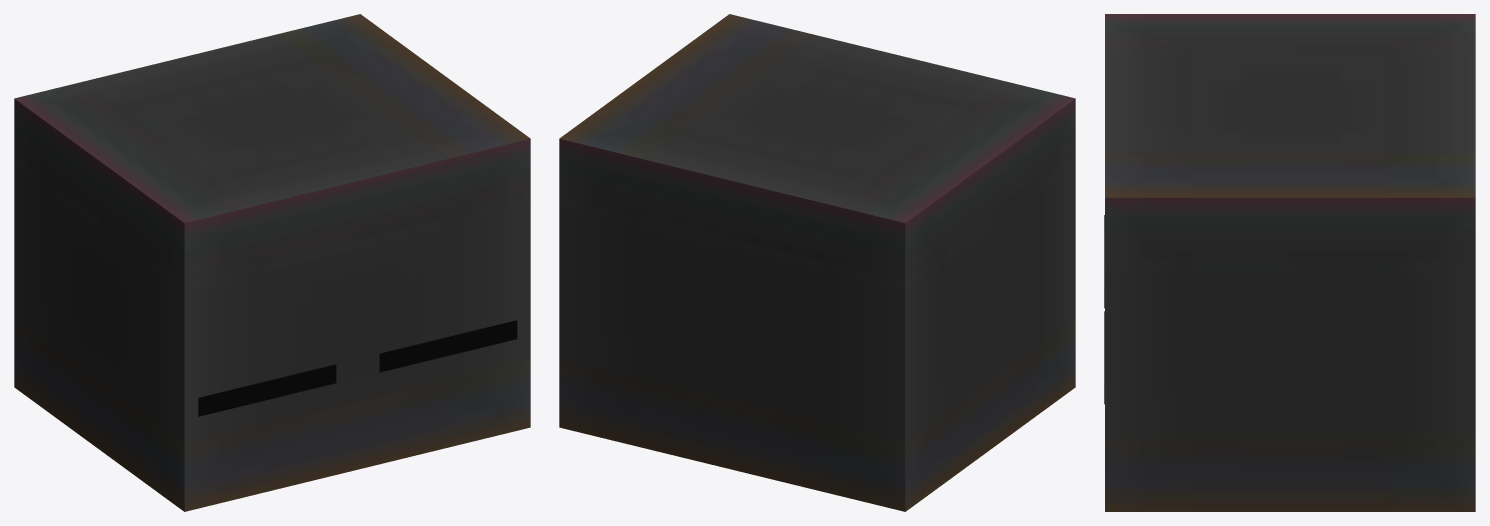
The model's file is knight.fbx.
3 renders of one model, left to right at view 1: azimuth 30°, elevation 25°; view 2: azimuth 150°, elevation 25°; view 3: azimuth 270°, elevation 25°, orthographic. The views are drawn at different scales.
Visible parts, largest first — view 1: Knight, Eyes; view 2: Knight; view 3: Knight.
Part boxes in pixels (x1,y1,x2,y2): Knight: (14,14,530,511); Eyes: (198,320,517,416); Knight: (559,14,1075,511); Knight: (1105,14,1475,511).
Bounding box in the file's own units: 90 × 71.73 × 76.85.
2 materials, 1 textured.
